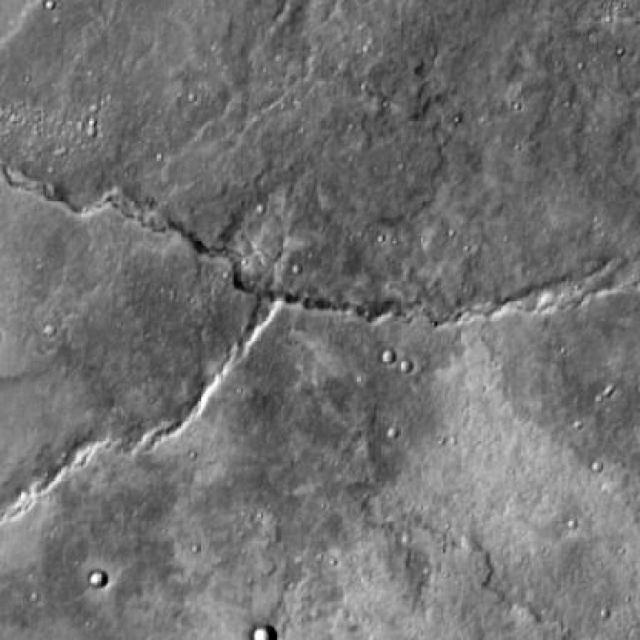crater: (244, 624, 270, 640), (91, 568, 107, 586)
